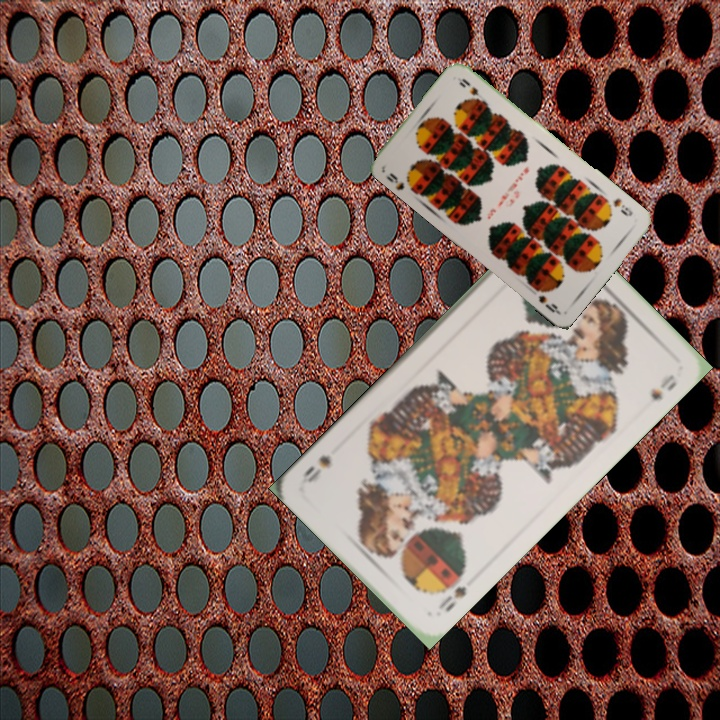S9: (609, 194, 635, 219), (382, 169, 407, 193)
SO: (434, 582, 469, 615)
